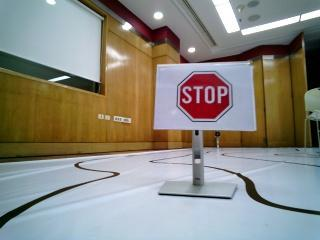stop: (158, 69, 253, 129)
